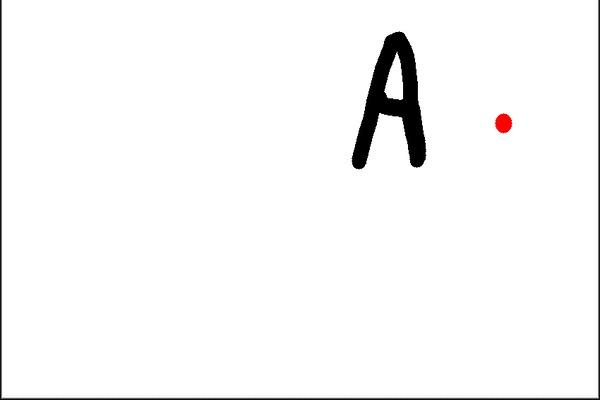A: (347, 24, 435, 181)
